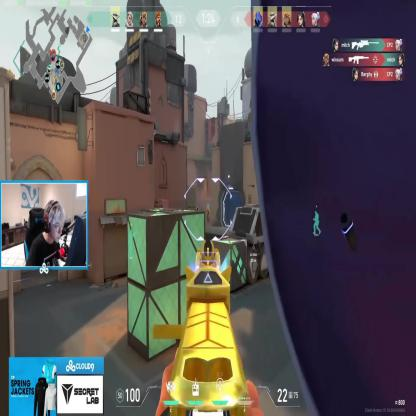enemy: (206, 206, 210, 221)
enemy_head: (207, 206, 208, 209)
